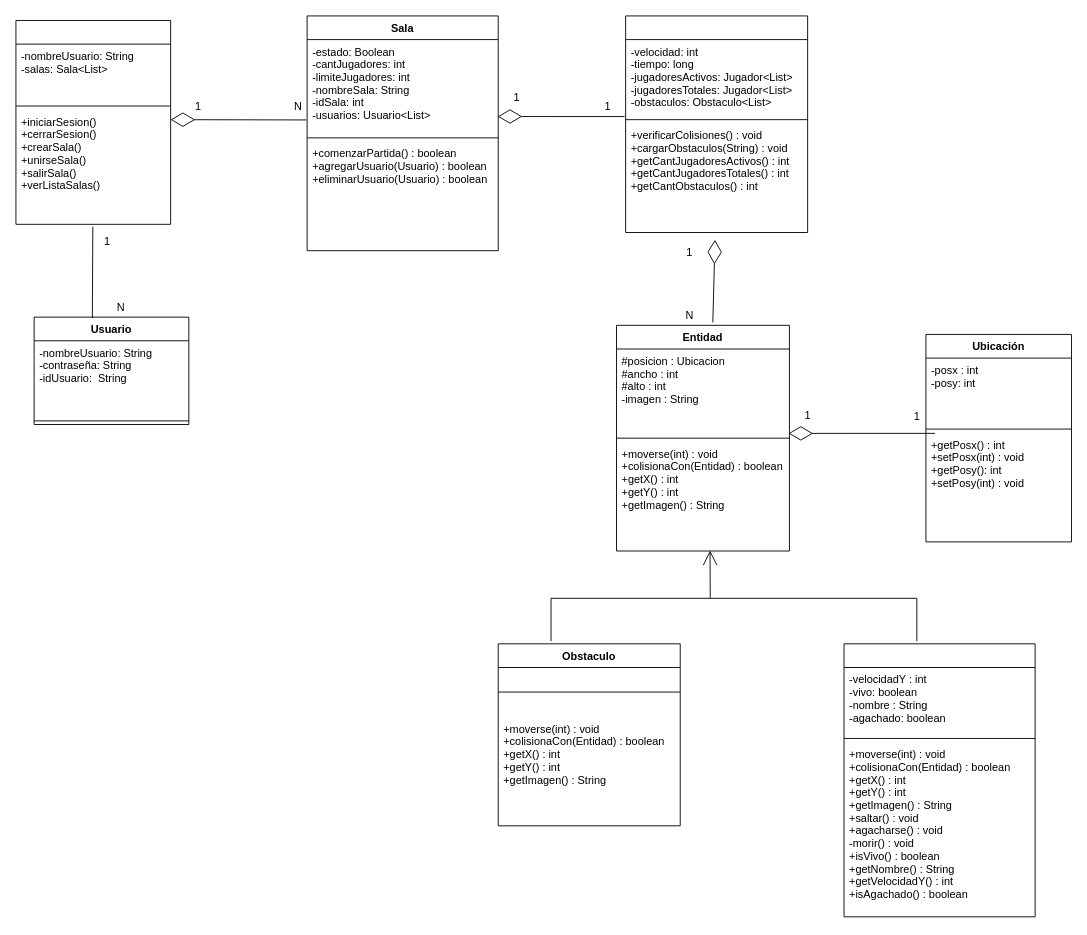
The diagram is 1087 pixels wide and 935 high, and some of its shapes have lost their labels. Each missing label, with the box of its shape:
Jugador: (843, 643, 1035, 917)
Menu: (15, 20, 171, 224)
Partida: (625, 15, 808, 233)
